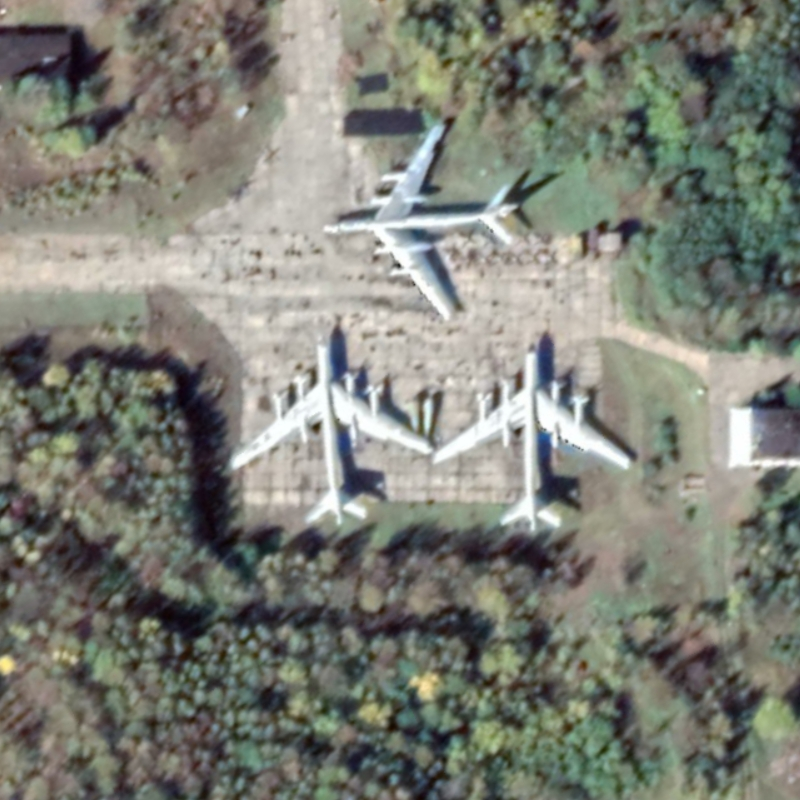A17: (215, 329, 441, 532), (316, 117, 525, 323), (427, 339, 637, 538)
